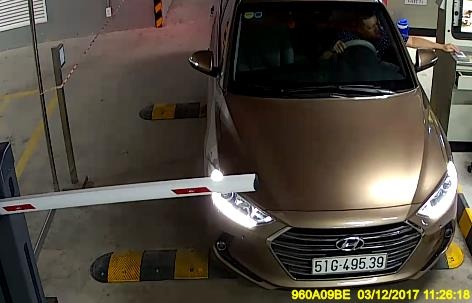plate: (308, 253, 387, 274)
